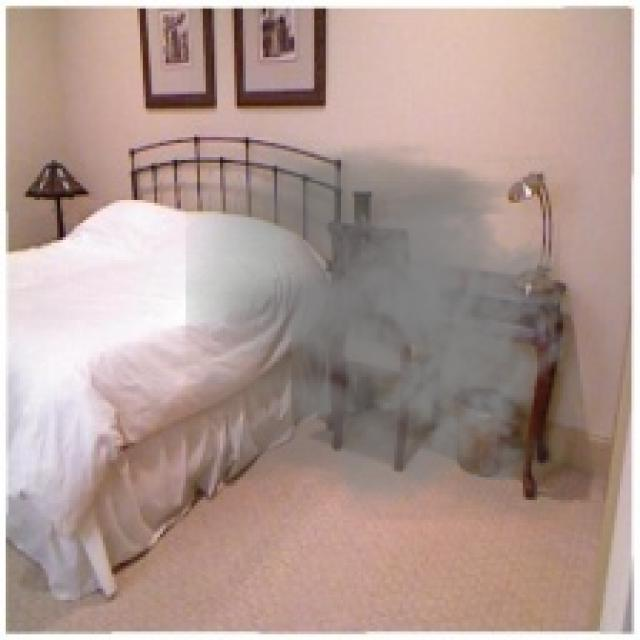smoke: (186, 140, 580, 523)
